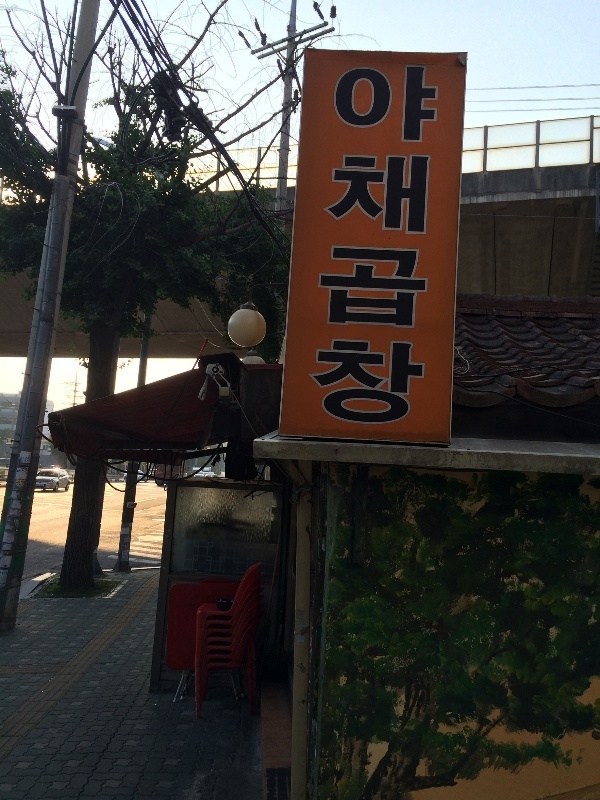text: (337, 65, 352, 427), (353, 65, 368, 427), (369, 65, 384, 427), (385, 65, 400, 427), (401, 65, 416, 427), (417, 65, 432, 427), (433, 65, 438, 427), (1, 575, 16, 587), (17, 478, 32, 487), (3, 544, 16, 551), (130, 503, 144, 509), (21, 456, 32, 461), (123, 551, 128, 561), (122, 543, 128, 551), (1, 571, 16, 574), (21, 460, 32, 464), (2, 572, 16, 575), (6, 571, 16, 575), (22, 468, 32, 472), (36, 484, 48, 487), (125, 537, 128, 543), (29, 452, 32, 457), (129, 543, 130, 551), (129, 537, 130, 543)
